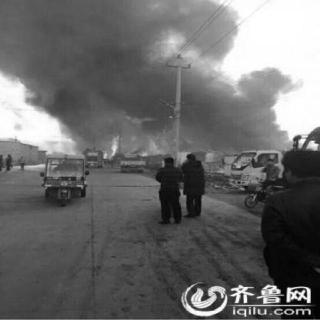Smoke: (39, 13, 275, 134)
